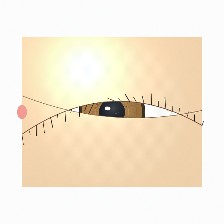pinguecula_lesion: (34, 93, 70, 122)
